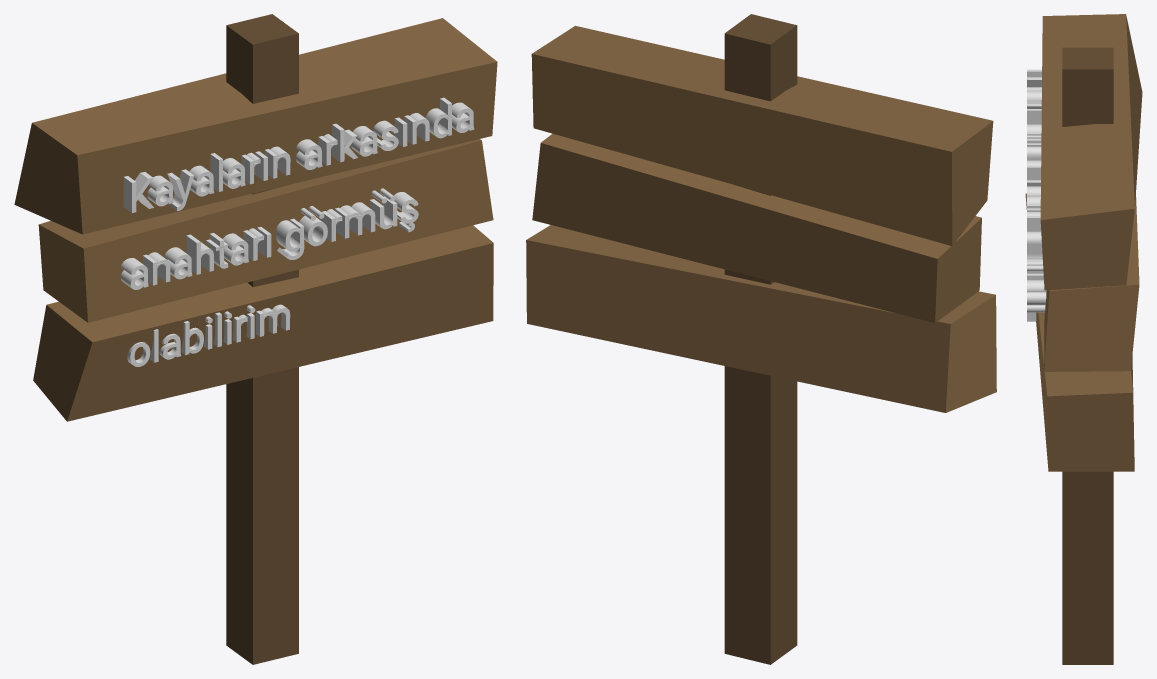
File: kayaarkasi.fbx
3 renders of one model, left to right at view 1: azimuth 30°, elevation 25°; view 2: azimuth 150°, elevation 25°; view 3: azimuth 270°, elevation 25°, orthographic. The views are drawn at different scales.
Parts seen in each view (by area): view 1: Cube.001, Cube.003, Cube.002, Cube, Text; view 2: Cube.001, Cube.003, Cube.002, Cube; view 3: Cube.001, Cube, Cube.003, Cube.002, Text.
Boxes of the visible parts, x1,y1,x2,y2 form: Cube.001: (14, 18, 497, 234); Cube.003: (33, 225, 493, 421); Cube.002: (38, 139, 493, 322); Cube: (226, 14, 298, 664); Text: (120, 97, 474, 366); Cube.001: (531, 25, 993, 245); Cube.003: (526, 225, 996, 412); Cube.002: (532, 133, 981, 322); Cube: (724, 14, 797, 664); Cube.001: (1040, 14, 1142, 290); Cube: (1062, 47, 1113, 664); Cube.003: (1025, 193, 1134, 471); Cube.002: (1044, 195, 1139, 371); Text: (1027, 69, 1046, 321).
Size of the model in its own units: 198 by 272 by 48.44.
